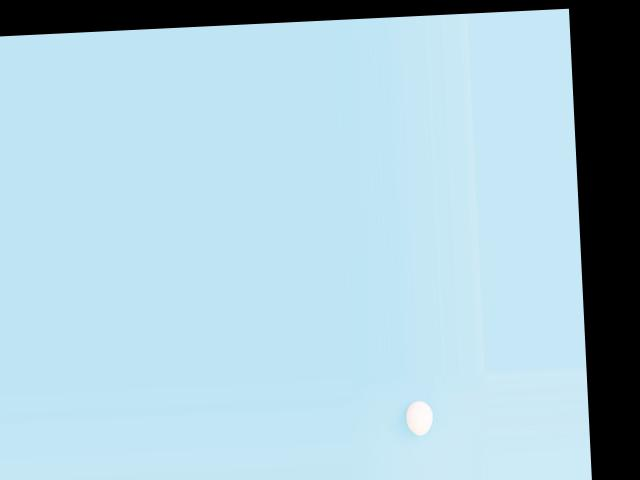egg: (405, 400, 433, 436)
